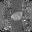people: (11, 12, 23, 21)
